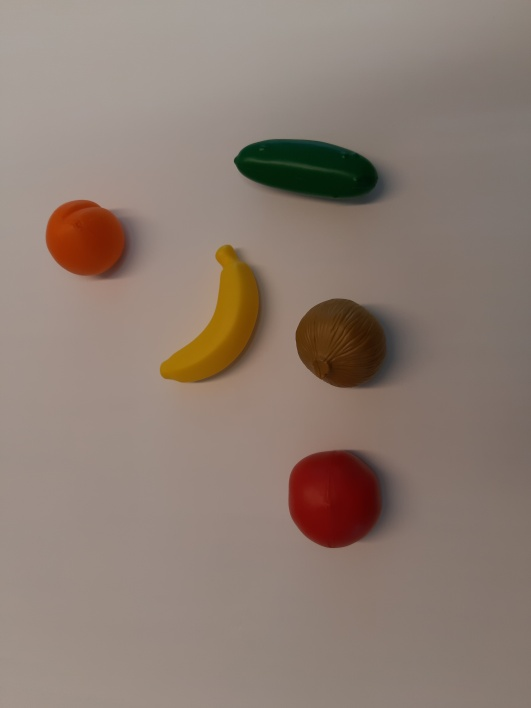apricot: (28, 182, 149, 304)
banana: (154, 228, 277, 400)
cucumber: (216, 118, 397, 218)
onion: (282, 277, 404, 410)
tomato: (269, 436, 404, 563)
